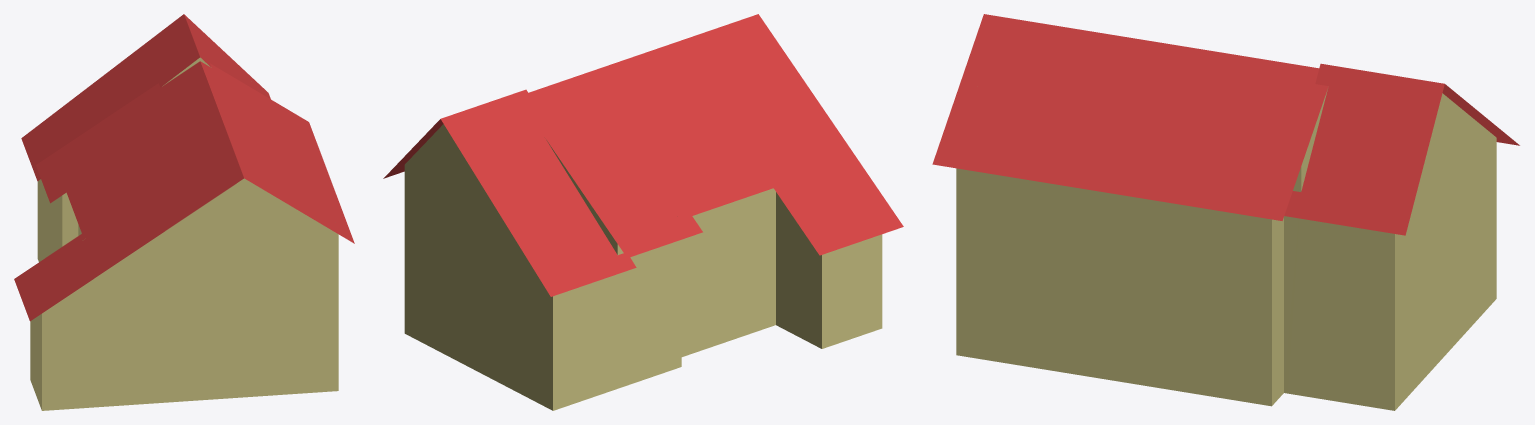
3 views of the same model, side by side, from view 1: azimuth 30°, elevation 25°; view 2: azimuth 150°, elevation 25°; view 3: azimuth 270°, elevation 25° (orthographic). The views are drawn at different scales.
Size of the model in its own units: 21.92 by 23.9 by 13.18.
